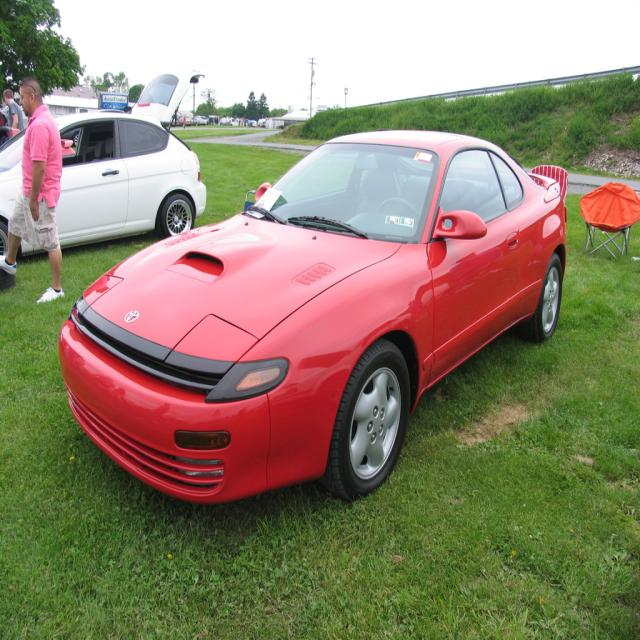car: (57, 137, 577, 503)
